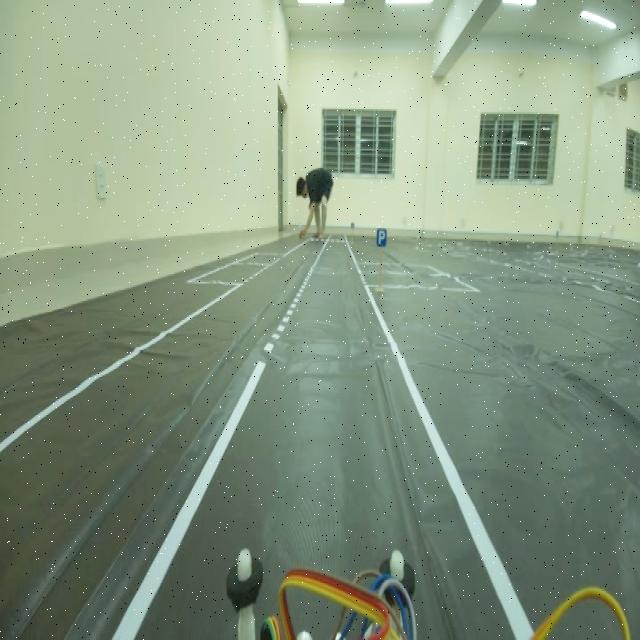parking: (374, 221, 388, 251)
